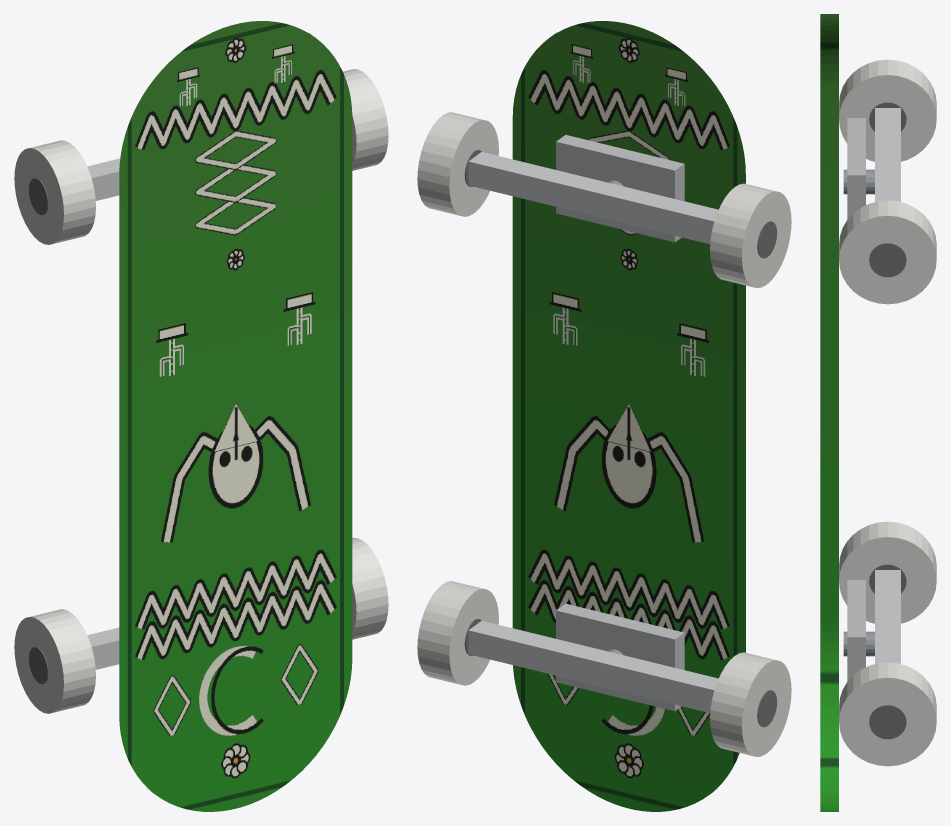
File: skateboard_interativo.glb
3 views of the same model, side by side, from view 1: azimuth 30°, elevation 25°; view 2: azimuth 150°, elevation 25°; view 3: azimuth 270°, elevation 25° (orthographic).
Parts seen in each view (by area): view 1: Deck, Wheel_0_0, Wheel_1_0, Wheel_1_1, Wheel_0_1, TruckHanger0, TruckHanger1; view 2: Deck, TruckHanger0, TruckHanger1, Wheel_1_0, Wheel_0_0, Wheel_0_1, Wheel_1_1, TruckBase0, TruckBase1; view 3: Deck, Wheel_0_1, Wheel_1_1, Wheel_0_0, Wheel_1_0, TruckHanger0, TruckHanger1, TruckBase0, TruckBase1, Hub_0_1, Hub_1_1, Kingpin0 (+3 smaller).
Boxes of the visible parts, <box> form: Deck: <box>119,21,352,811</box>; Wheel_0_0: <box>14,609,95,713</box>; Wheel_1_0: <box>14,140,95,244</box>; Wheel_1_1: <box>343,69,388,170</box>; Wheel_0_1: <box>352,537,388,639</box>; TruckHanger0: <box>87,627,119,669</box>; TruckHanger1: <box>87,158,120,200</box>; Deck: <box>512,21,745,811</box>; TruckHanger0: <box>468,621,718,712</box>; TruckHanger1: <box>468,152,718,244</box>; Wheel_1_0: <box>710,183,791,288</box>; Wheel_0_0: <box>710,652,791,756</box>; Wheel_0_1: <box>417,581,498,685</box>; Wheel_1_1: <box>417,112,498,216</box>; TruckBase0: <box>556,603,684,711</box>; TruckBase1: <box>556,135,684,242</box>; Deck: <box>820,14,838,811</box>; Wheel_0_1: <box>839,662,936,766</box>; Wheel_1_1: <box>839,200,936,304</box>; Wheel_0_0: <box>839,521,936,623</box>; Wheel_1_0: <box>839,59,936,161</box>; TruckHanger0: <box>875,570,900,663</box>; TruckHanger1: <box>875,108,900,201</box>; TruckBase0: <box>847,580,865,681</box>; TruckBase1: <box>847,118,865,219</box>; Hub_0_1: <box>869,705,906,739</box>; Hub_1_1: <box>869,243,906,277</box>; Kingpin0: <box>843,631,874,656</box>.
Size of the model in its own units: 0.357 by 0.8198 by 0.112.
Materials: 1 (1 with a texture image).
